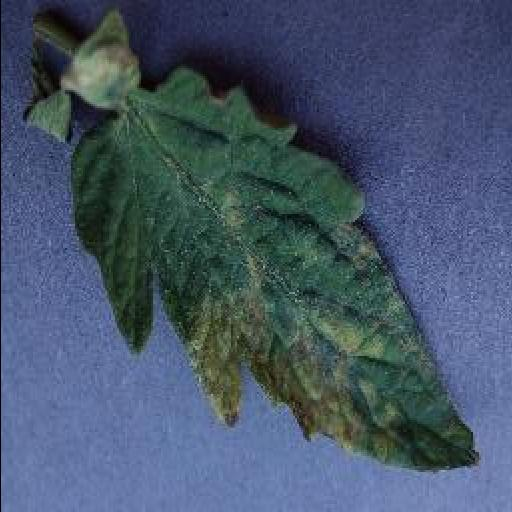disease_tomato: (70, 67, 482, 475)
